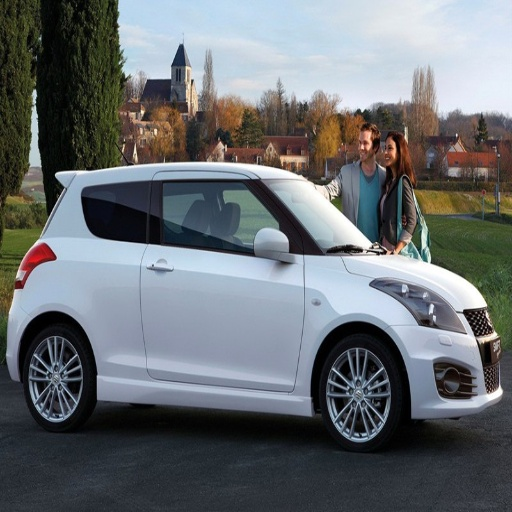back_right_door: (81, 177, 154, 381)
front_bumper: (400, 327, 501, 414)
front_right_door: (141, 177, 305, 388)
front_right_light: (393, 285, 466, 331)
